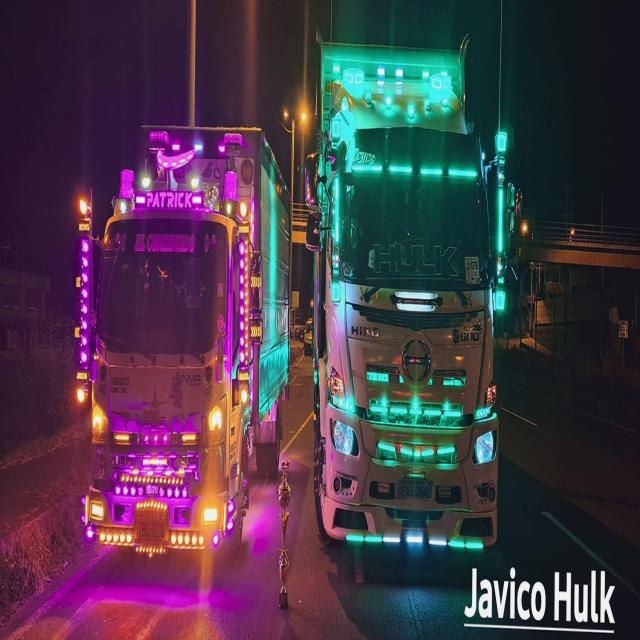TRUCK: (315, 15, 500, 544), (78, 123, 282, 548)
